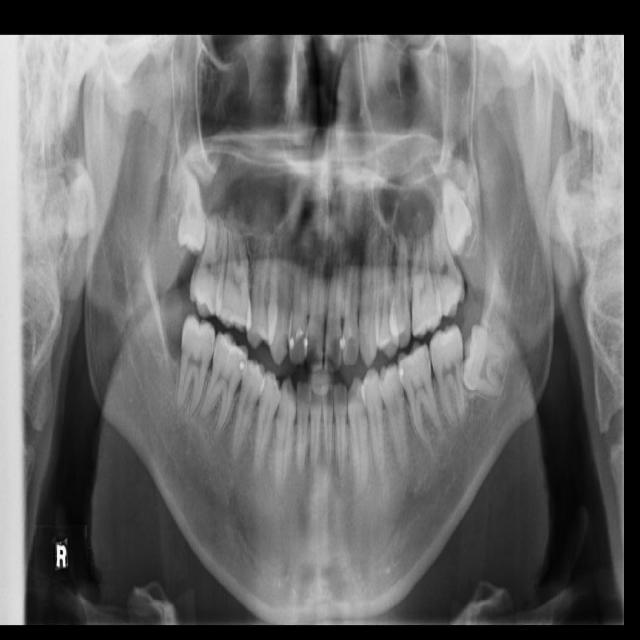Filling: (288, 315, 308, 365), (236, 352, 249, 373), (397, 361, 408, 381)
impacted tooth: (464, 324, 515, 400), (432, 164, 475, 253), (176, 158, 207, 252)
